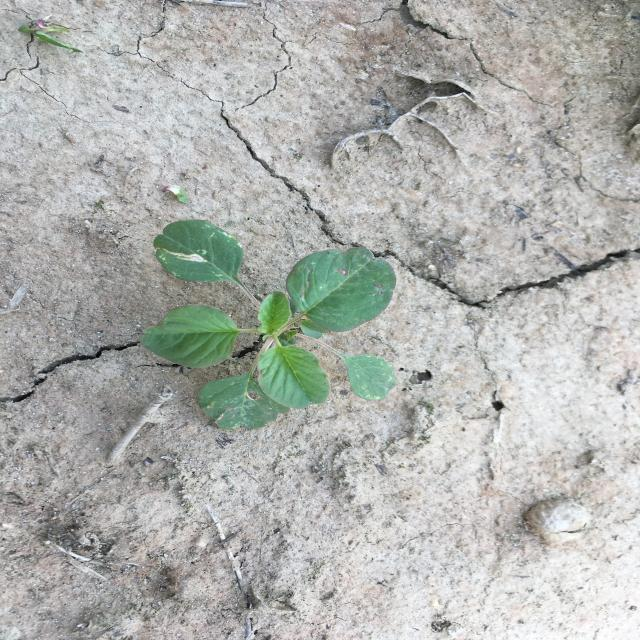PalmerAmaranth: (140, 219, 398, 431)
